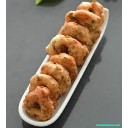vada: (52, 33, 84, 64), (29, 72, 59, 104), (25, 87, 54, 120), (62, 22, 92, 52), (42, 62, 70, 93), (78, 1, 108, 21)
